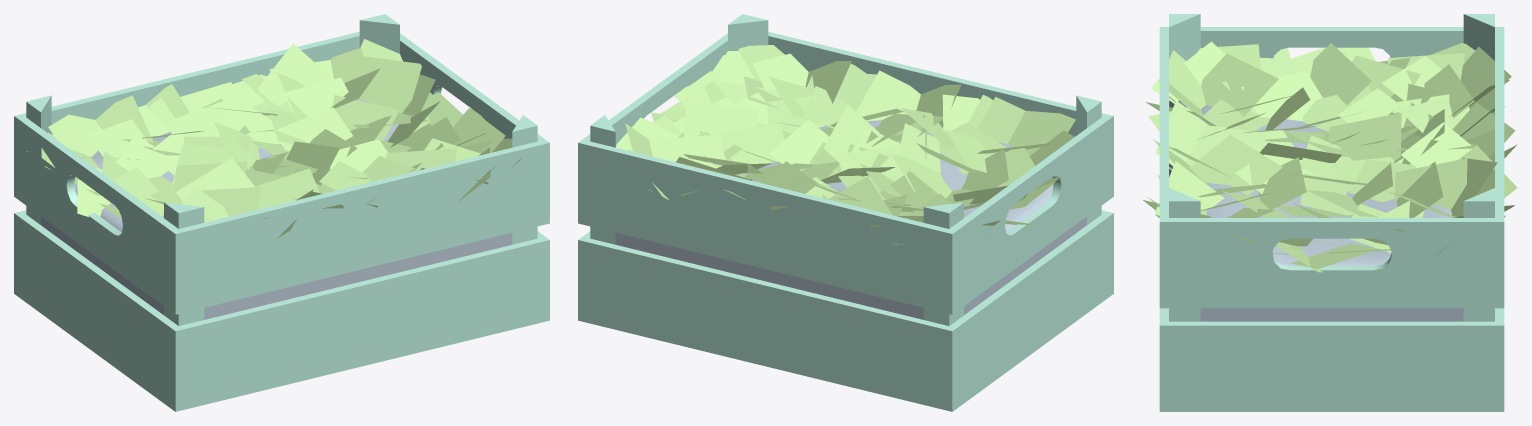
File: leaves_box.fbx
3 renders of one model, left to right at view 1: azimuth 30°, elevation 25°; view 2: azimuth 150°, elevation 25°; view 3: azimuth 270°, elevation 25°, orthographic. The views are drawn at different scales.
Parts seen in each view (by area): view 1: woodbox; view 2: woodbox; view 3: woodbox.
Part boxes in pixels (bbox=[...]): woodbox: bbox=[14, 14, 549, 411]; woodbox: bbox=[578, 14, 1113, 411]; woodbox: bbox=[1142, 14, 1517, 411].
Bounding box in the file's own units: 3148 × 1458 × 2401.
